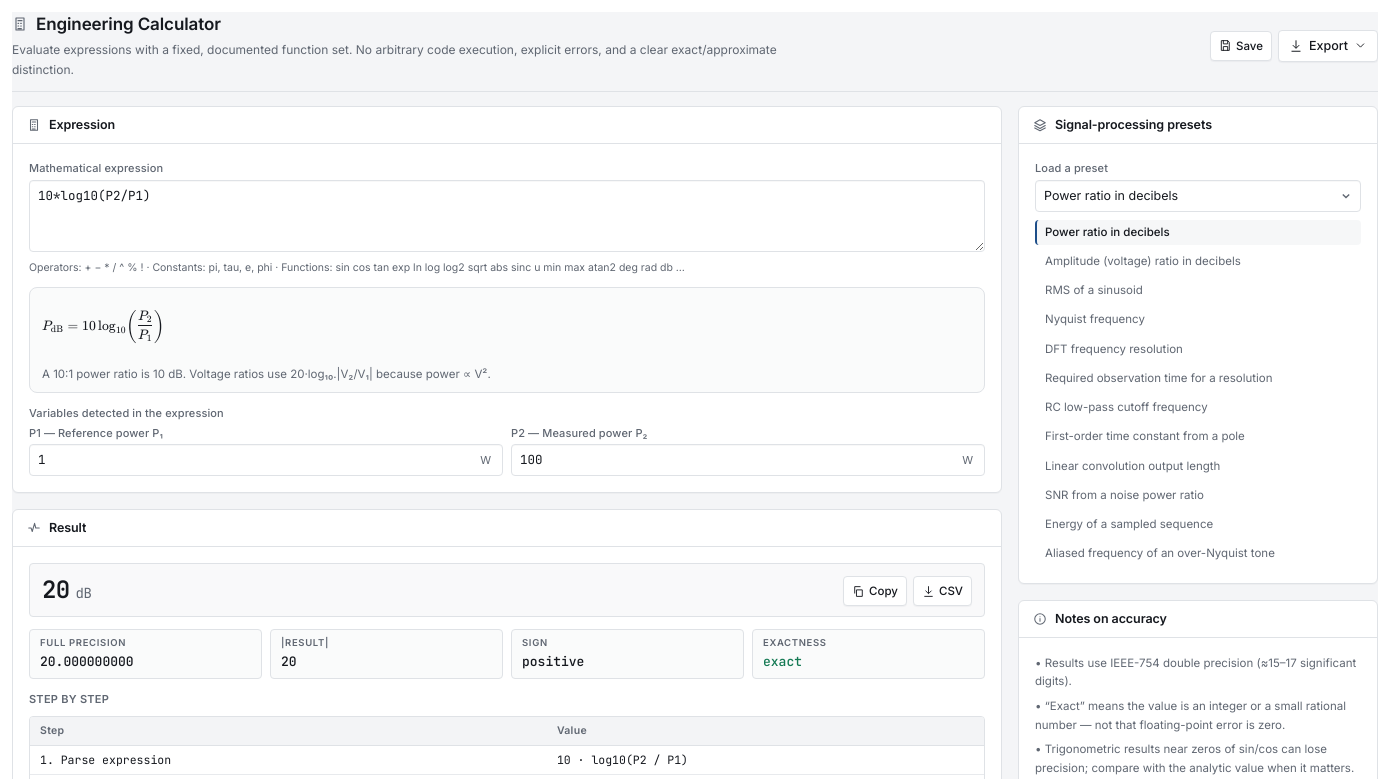
Scenario: calculator module › asks for a value for every free variable
Type "x^2" into the text box labelled "Mathematical expression" at (507, 216), box [29,180,985,252]
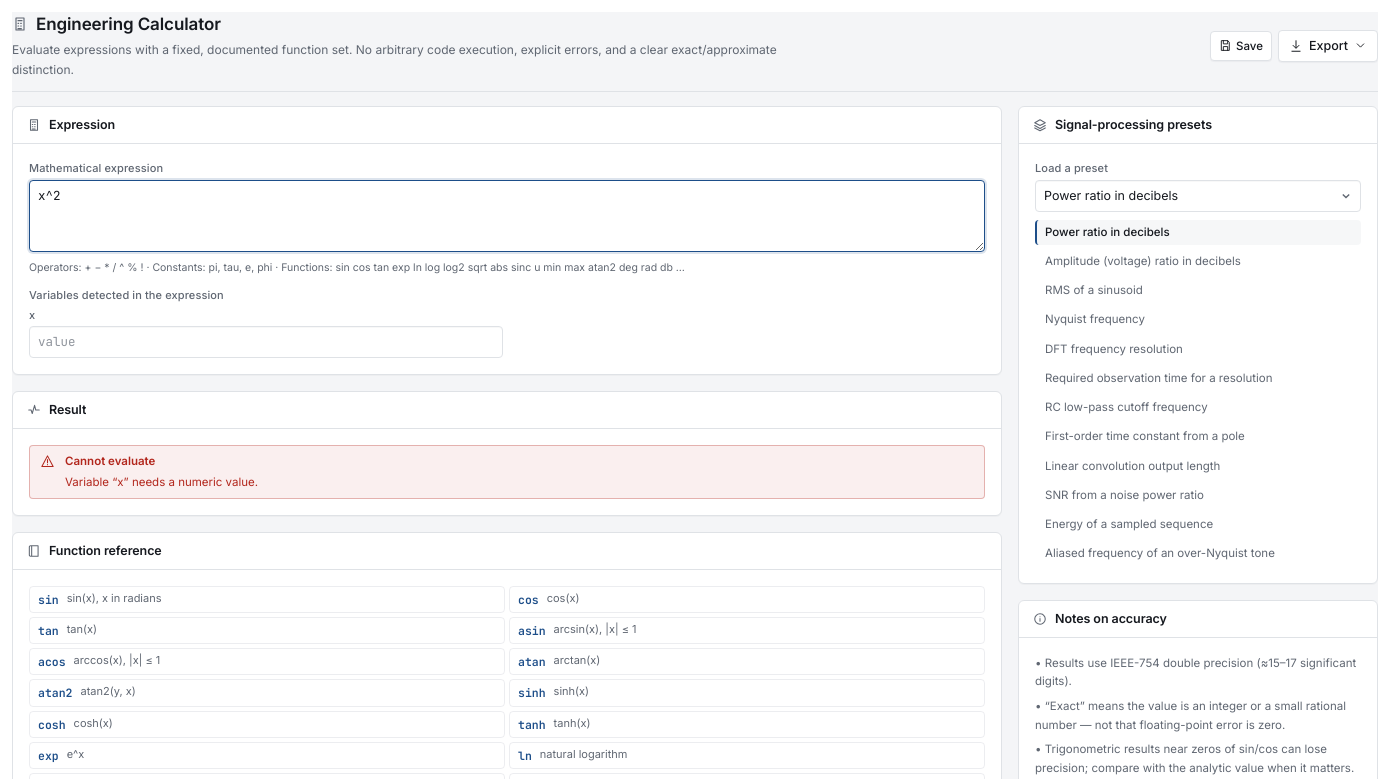
Expected: the text "Cannot evaluate Variable “x” needs a numeric value." is shown, [65,452,258,492]
Type "3" into the number field labelled "x" at (266, 342), box [29,326,503,358]
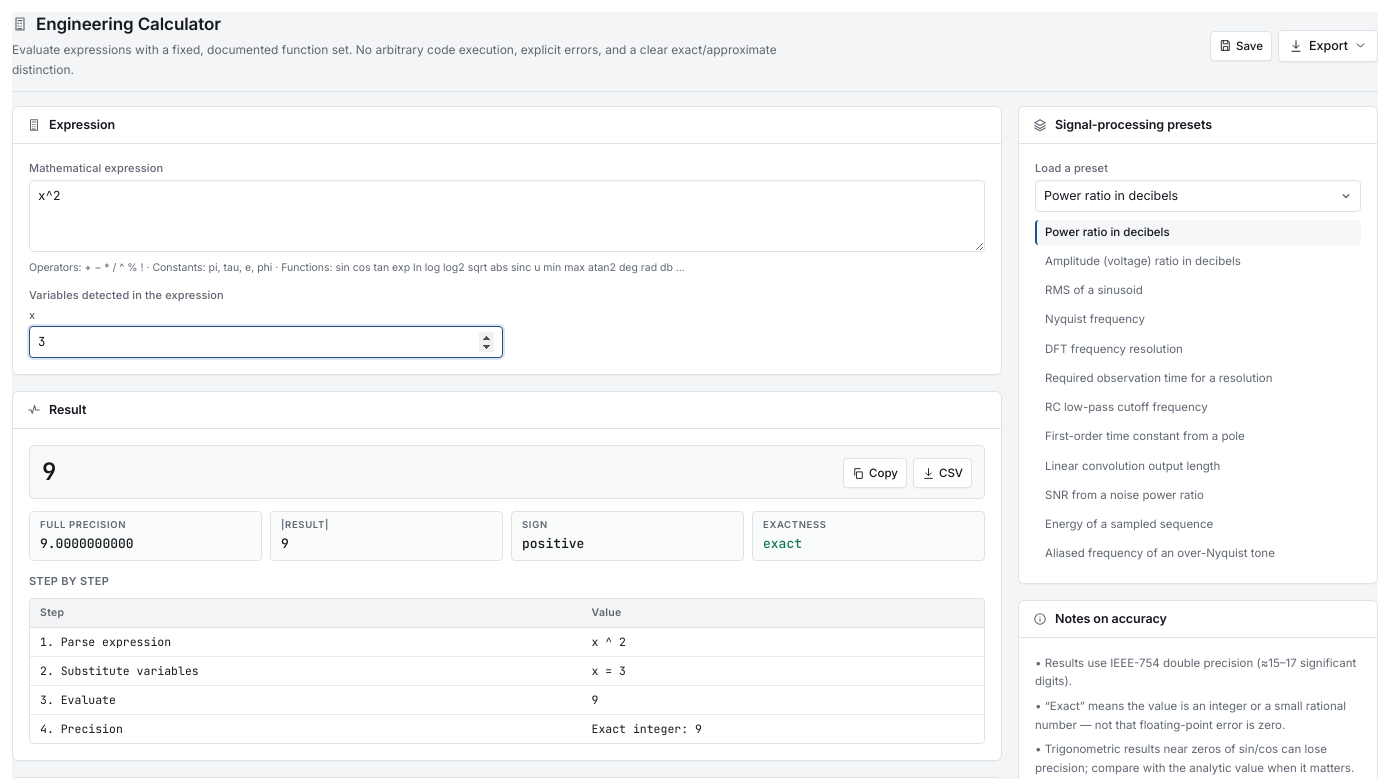
Expected: the 1st text "9" is shown, [42,456,56,488]
